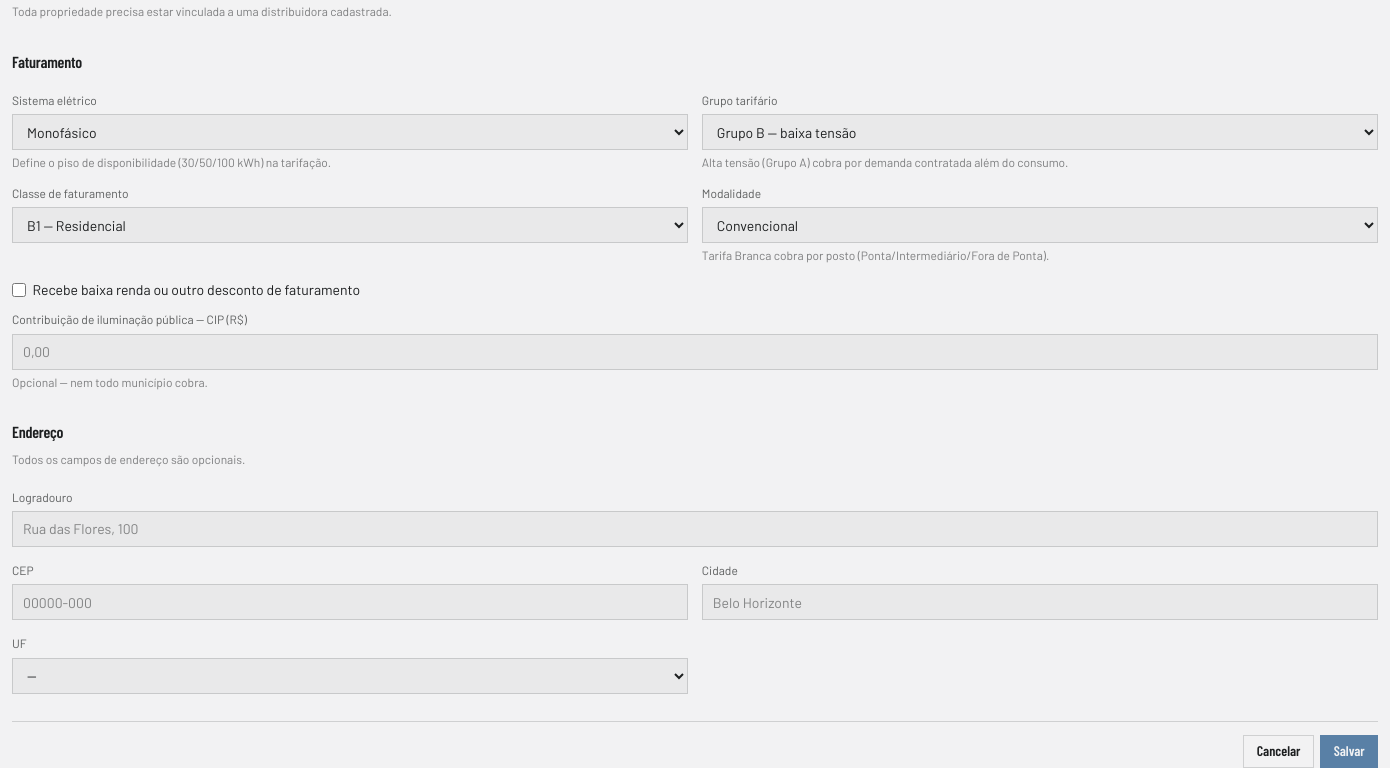
PropertyForm — máscara de CEP › aplica máscara enquanto digita
(page scrolled)
In the field labelled "CEP": coordinates (350, 602) top-left (12, 584), bottom-right (688, 620), type "30000000"
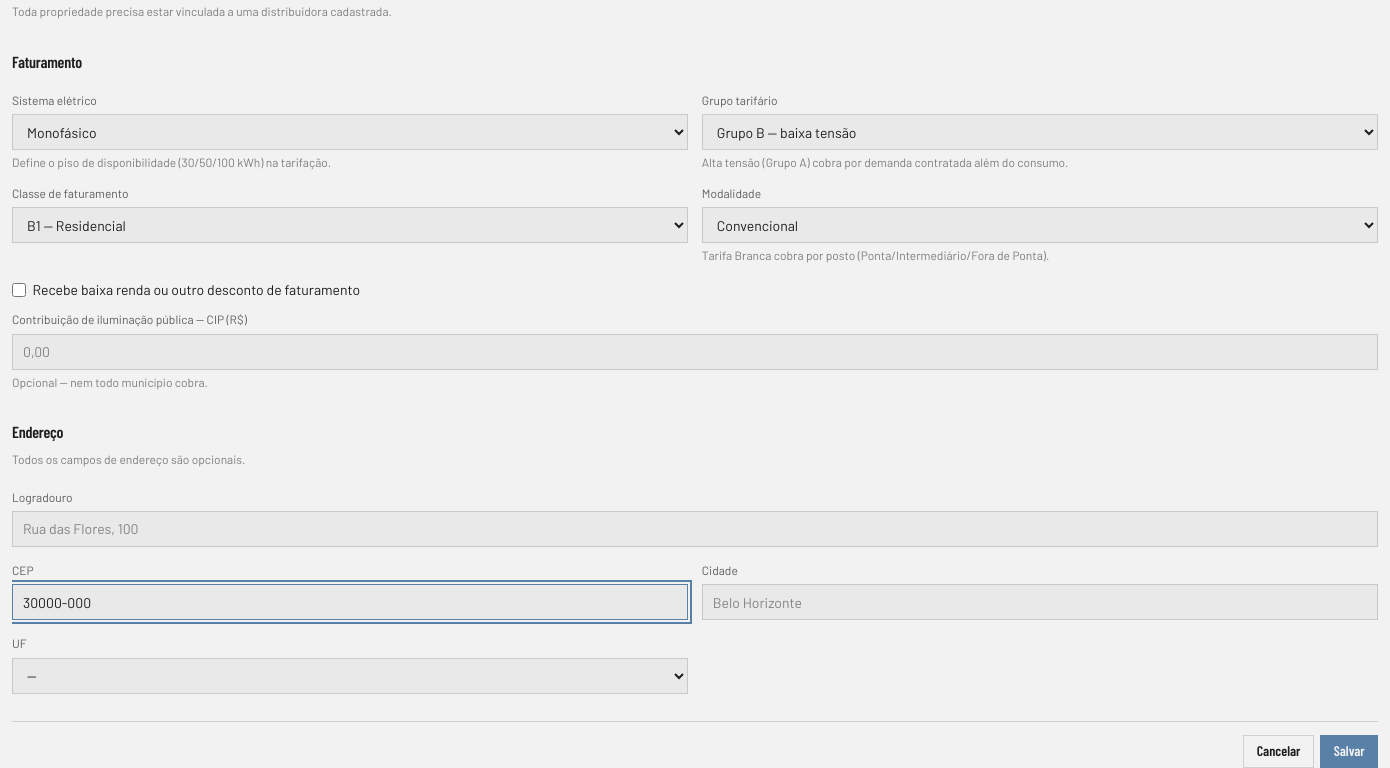
Check: the field labelled "CEP" holds "30000-000", box top-left (12, 584), bottom-right (688, 620)
